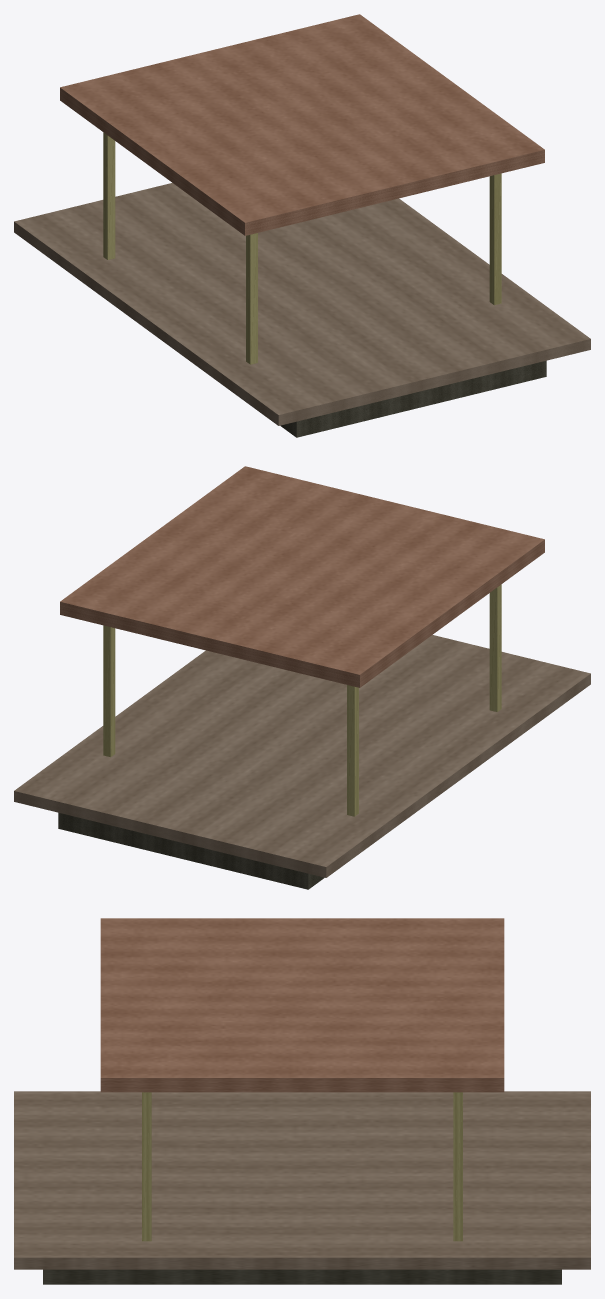
File: bung-raft-1-rust-lod.glb
The picture shows the model from 3 angles, top to bottom: view 1: azimuth 30°, elevation 25°; view 2: azimuth 150°, elevation 25°; view 3: azimuth 270°, elevation 25°; orthographic projection. The views are drawn at different scales.
Visible parts, largest first — view 1: bung-raft-1-rust-lod; view 2: bung-raft-1-rust-lod; view 3: bung-raft-1-rust-lod.
Boxes of the visible parts, left/top/right/bottom form: bung-raft-1-rust-lod: left=14, top=14, right=590, bottom=437; bung-raft-1-rust-lod: left=14, top=466, right=590, bottom=889; bung-raft-1-rust-lod: left=14, top=918, right=590, bottom=1284.
Size of the model in its own units: 4.5 by 2.78 by 6.6.
Materials: 1 (1 with a texture image).
